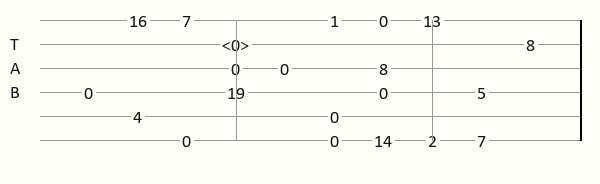0: (84, 85, 97, 100), (182, 133, 195, 148), (231, 61, 244, 76), (280, 61, 293, 76), (330, 133, 343, 148), (330, 109, 343, 124), (379, 85, 392, 100), (379, 13, 392, 28)
1: (330, 13, 343, 28)
13: (423, 13, 445, 28)
14: (374, 133, 396, 148)
16: (129, 13, 151, 28)
19: (227, 85, 249, 100)
2: (428, 133, 441, 148)
4: (133, 109, 146, 124)
5: (477, 85, 490, 100)
7: (182, 13, 195, 28), (477, 133, 490, 148)
8: (379, 61, 392, 76), (526, 37, 539, 52)
harmonic: (222, 37, 253, 52)
